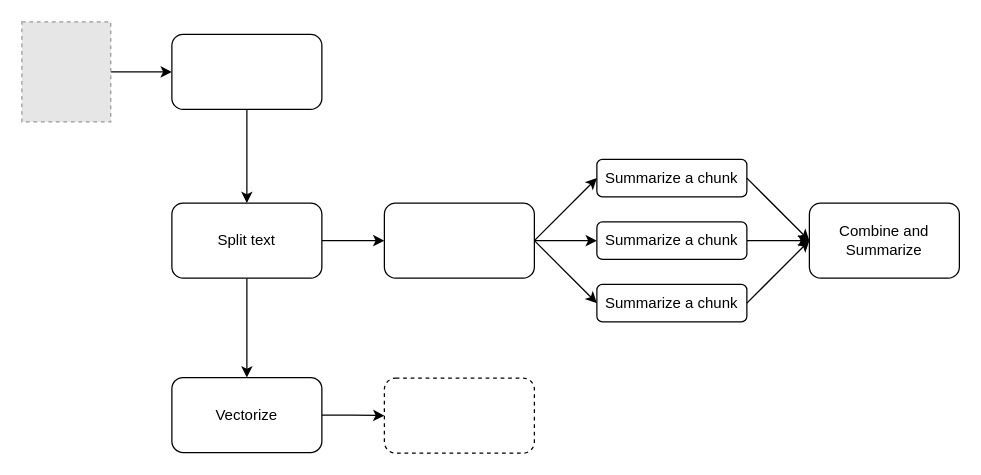
This 981x475 diagram has some shape labels left out. Grey dashed boxes stand in for pictures. Each missing label, with the box of its shape:
Generate Quiz: (383, 377, 534, 453)
PDF Parsing: (171, 33, 322, 109)
Split to small chunks: (383, 202, 534, 278)
